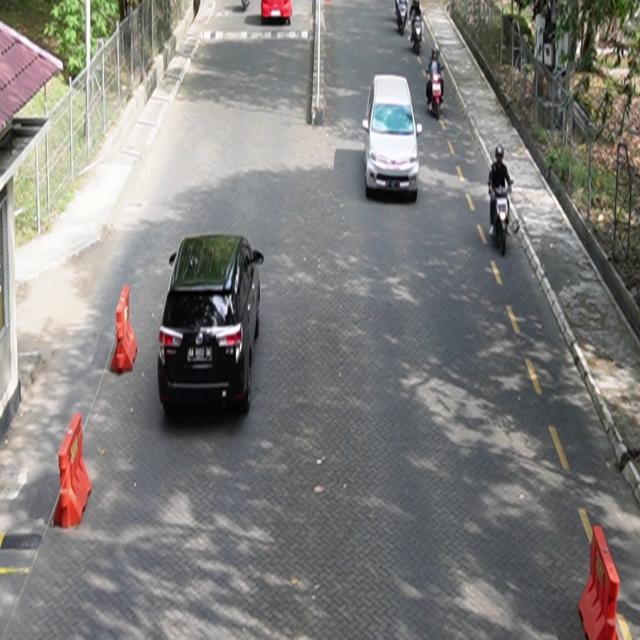car: (158, 233, 265, 417), (363, 74, 423, 202)
